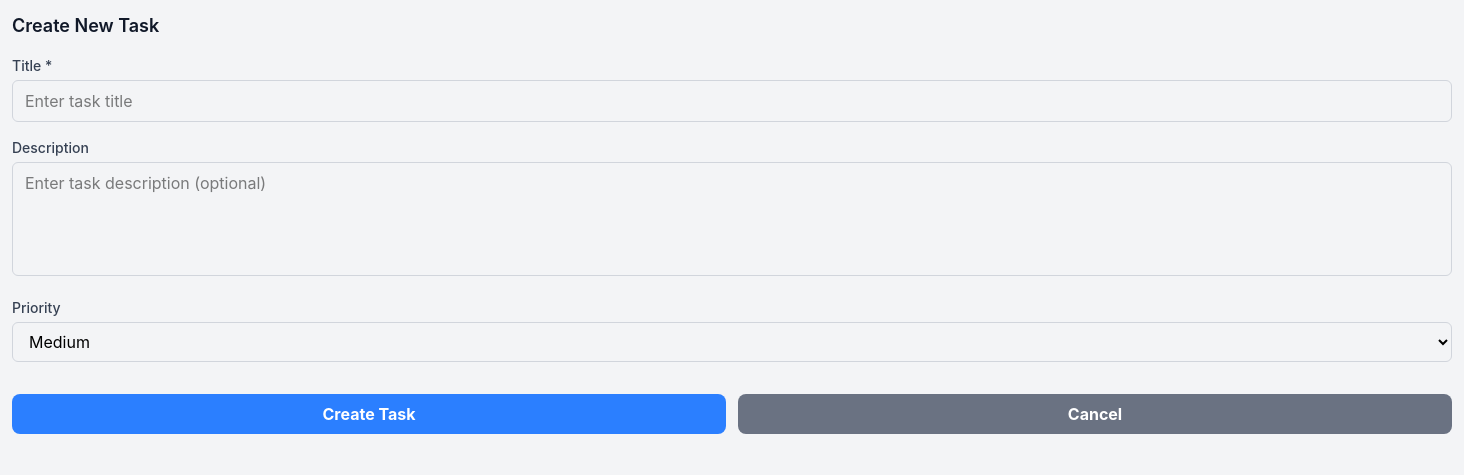
Test: TaskForm › shows validation error when title is too short
Type "ab" into the field labelled "Title *" at (732, 101), box [12,80,1452,122]
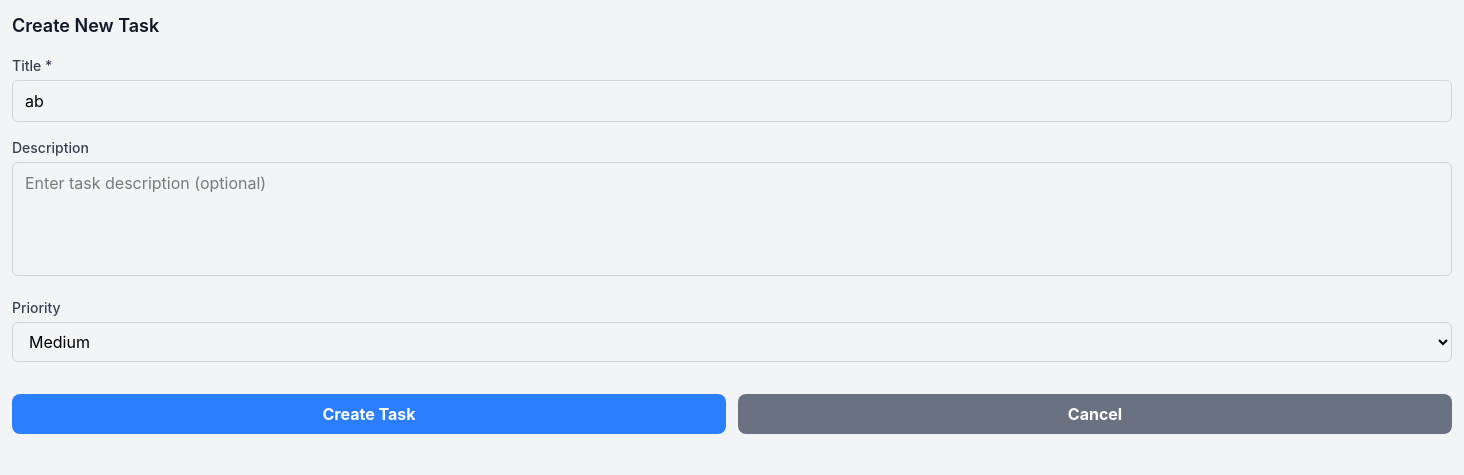
Click the button "Create Task" at (369, 414), box [12,394,726,434]
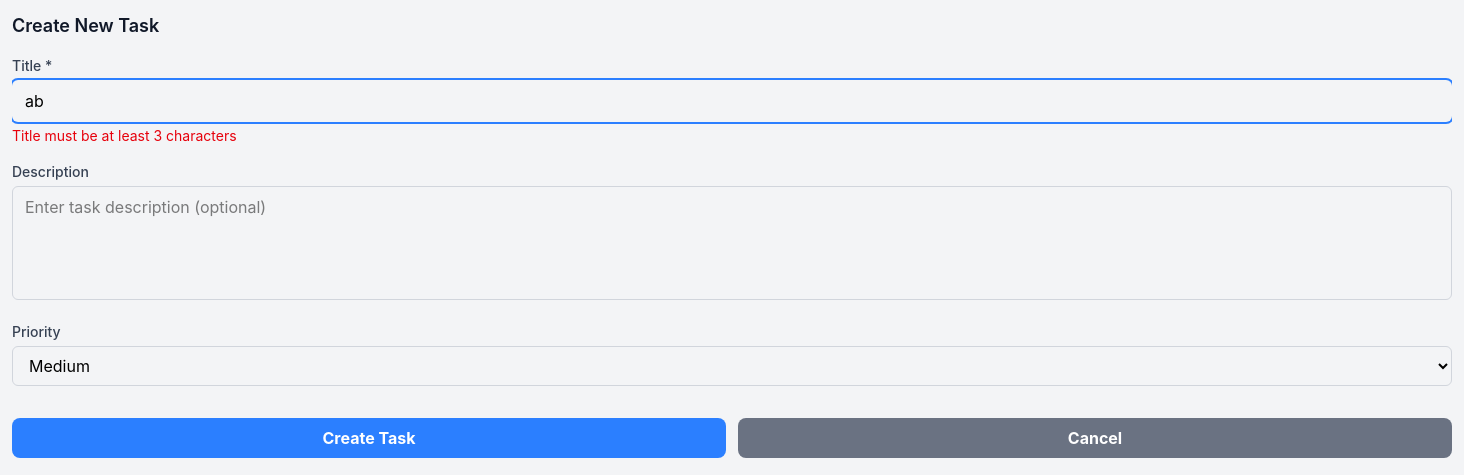
Result: the text "Title must be at least 3 characters" is shown at [12,127,237,144]
